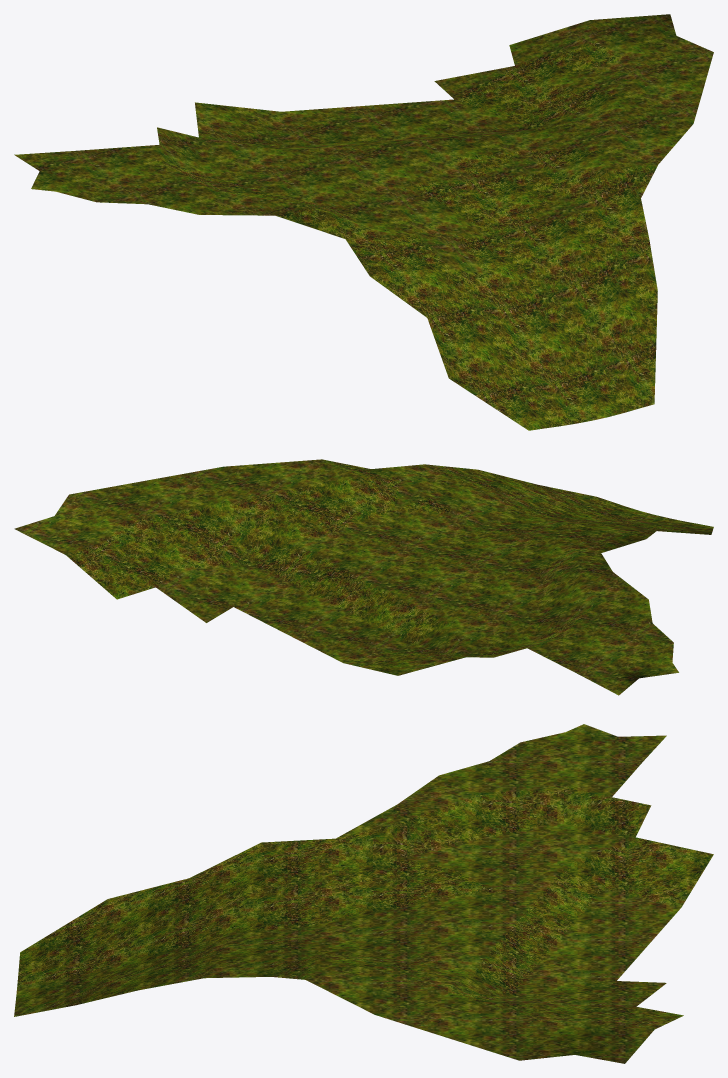
Rendered from TROLLHOLE02_LUKEGROUND02.fbx.
The picture shows the model from 3 angles, top to bottom: view 1: azimuth 30°, elevation 25°; view 2: azimuth 150°, elevation 25°; view 3: azimuth 270°, elevation 25°; orthographic projection. The views are drawn at different scales.
Visible parts, largest first — view 1: TROLLHOLE02_LUKEGROUND02; view 2: TROLLHOLE02_LUKEGROUND02; view 3: TROLLHOLE02_LUKEGROUND02.
Boxes of the visible parts, x1=… form: TROLLHOLE02_LUKEGROUND02: x1=14, y1=14, x2=713, y2=430; TROLLHOLE02_LUKEGROUND02: x1=14, y1=459, x2=713, y2=695; TROLLHOLE02_LUKEGROUND02: x1=14, y1=724, x2=713, y2=1063.
Size of the model in its own units: 437780 by 67934 by 380983.
1 material, 1 textured.
